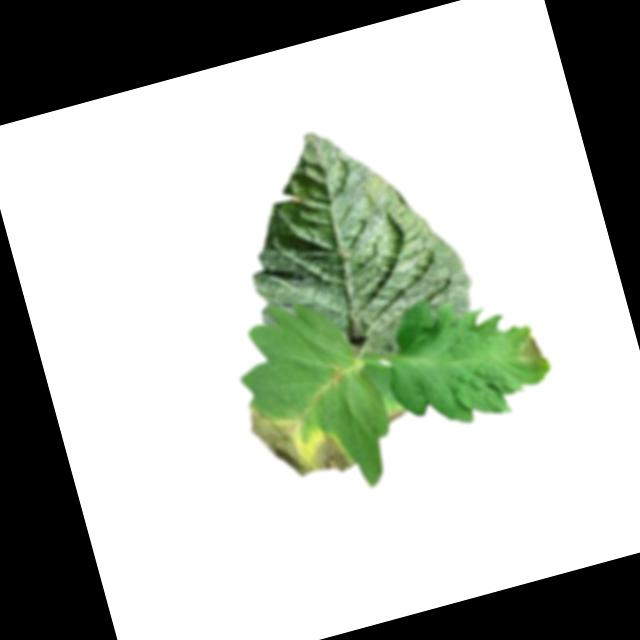Late_blight: (243, 380, 356, 493), (511, 326, 547, 371), (383, 408, 406, 423)
healthy: (216, 99, 484, 384)
